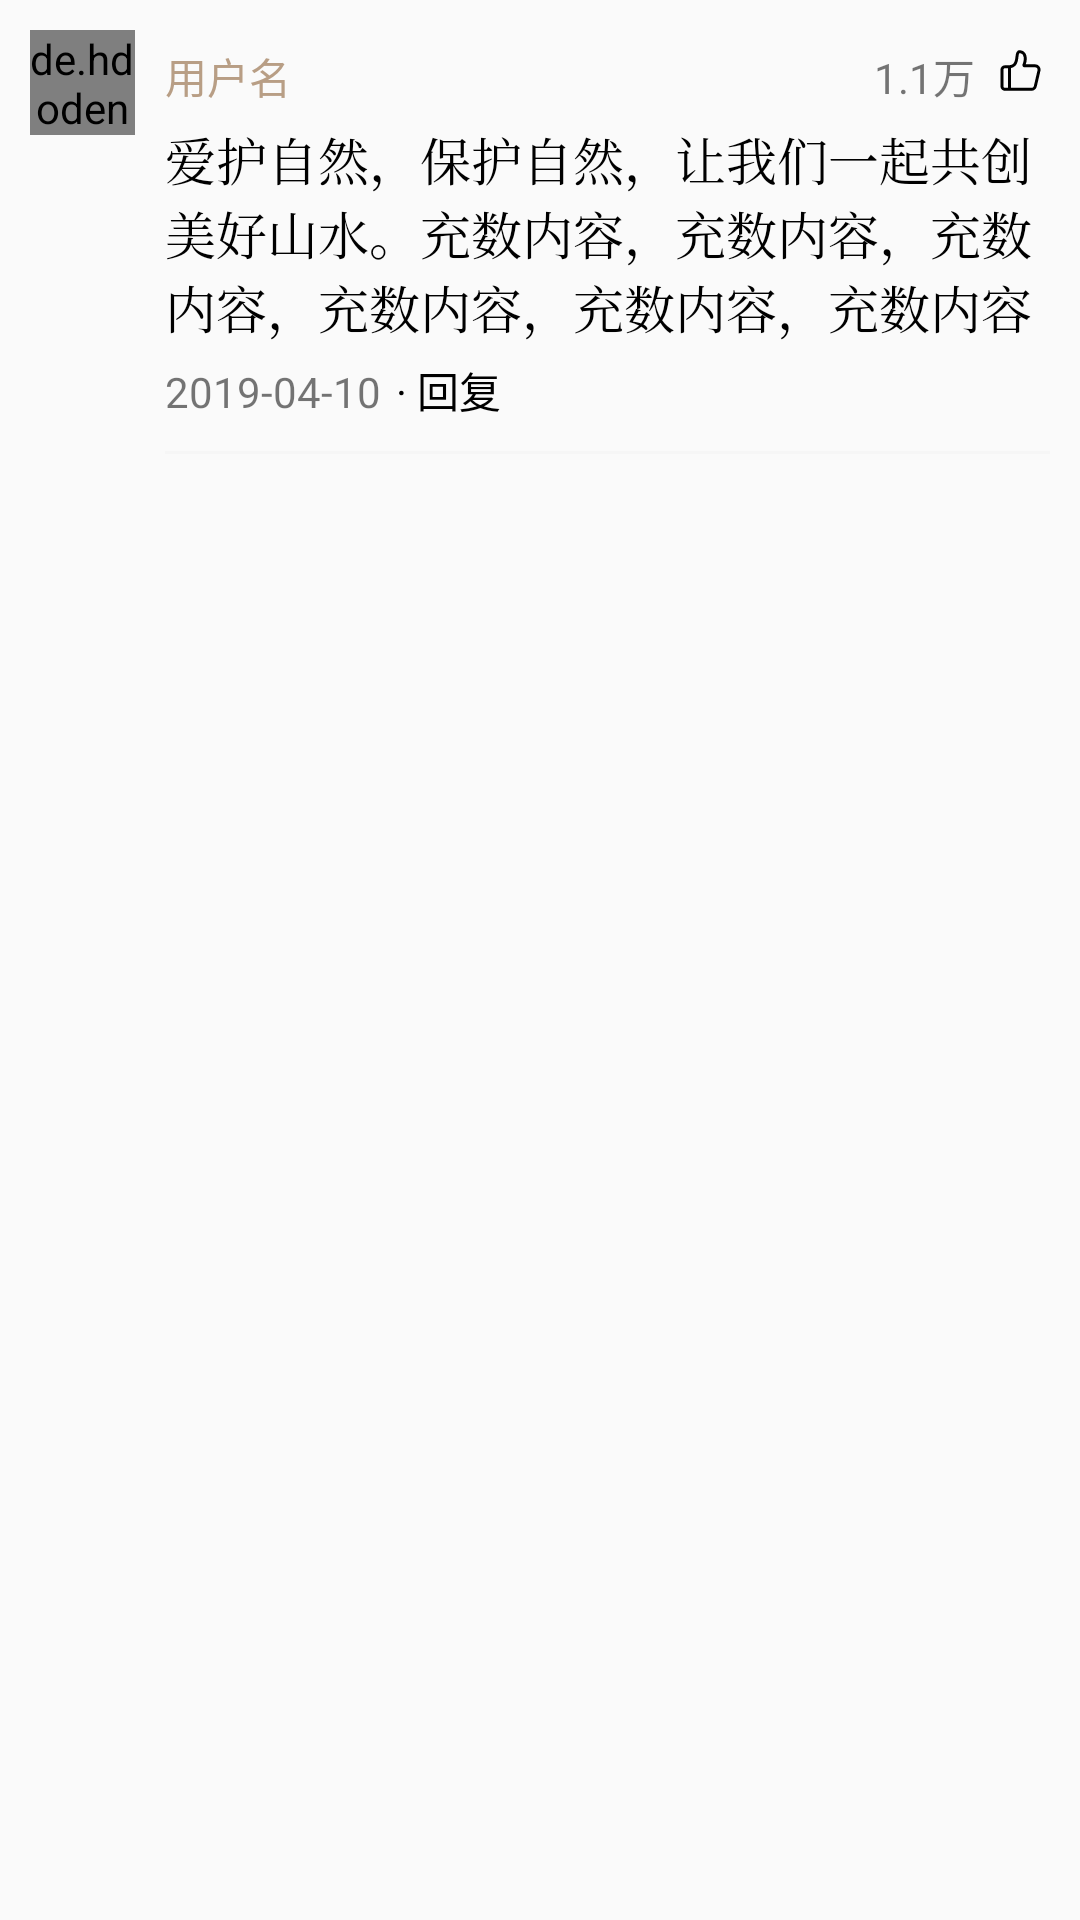

Icons on this 1080px×1920px Android screen, each with its box as (x1, y1, x2, y2):
feel good: (1000, 50, 1041, 91)
